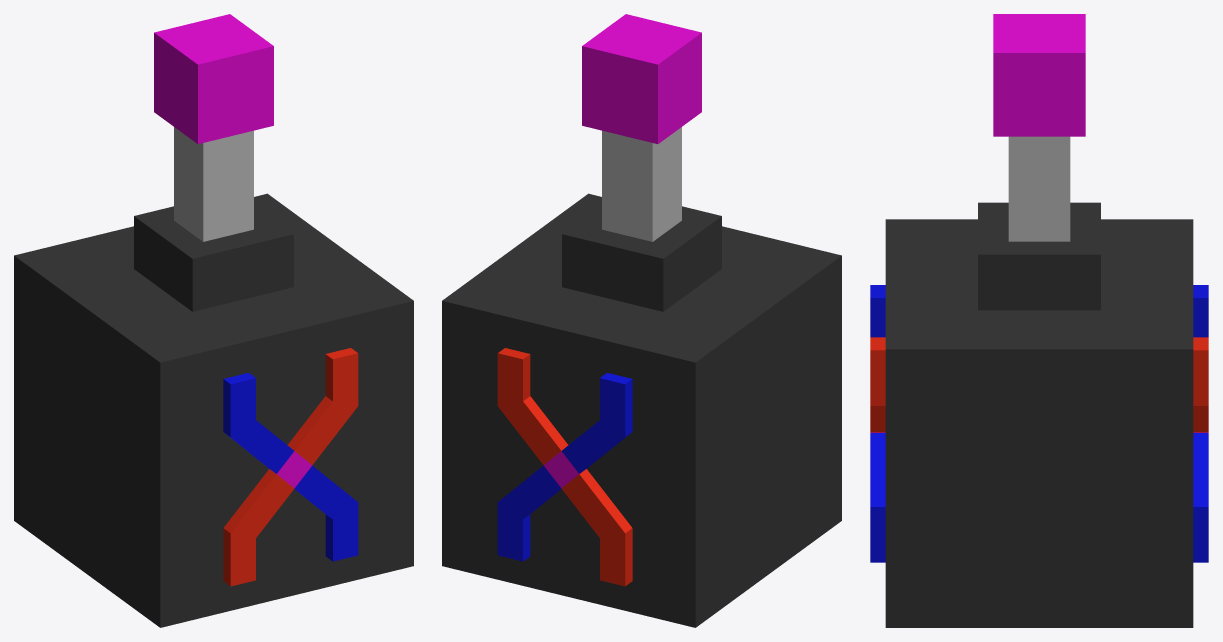
File: FusionBomb.fbx
The picture shows the model from 3 angles, left to right: view 1: azimuth 30°, elevation 25°; view 2: azimuth 150°, elevation 25°; view 3: azimuth 270°, elevation 25°; orthographic projection. The views are drawn at different scales.
Parts seen in each view (by area): view 1: Cube.001, Cube.004, Cube.002, Cube.003, Cube.011, Cube.006, Cube.010, Cube.005, Cube.007; view 2: Cube.001, Cube.004, Cube.002, Cube.003, Cube.020, Cube.015, Cube.019, Cube.014, Cube.016; view 3: Cube.001, Cube.004, Cube.002, Cube.003, Cube.005, Cube.014, Cube.011, Cube.020, Cube.010, Cube.019.
Part boxes in pixels (left/top/right/bottom): Cube.001: left=14, top=193, right=413, bottom=627; Cube.004: left=154, top=14, right=273, bottom=143; Cube.002: left=134, top=205, right=293, bottom=311; Cube.003: left=174, top=127, right=253, bottom=241; Cube.011: left=287, top=348, right=358, bottom=464; Cube.006: left=223, top=469, right=294, bottom=586; Cube.010: left=223, top=373, right=293, bottom=473; Cube.005: left=294, top=465, right=358, bottom=561; Cube.007: left=277, top=451, right=312, bottom=488; Cube.001: left=442, top=193, right=841, bottom=627; Cube.004: left=582, top=14, right=701, bottom=143; Cube.002: left=562, top=205, right=721, bottom=311; Cube.003: left=602, top=127, right=681, bottom=241; Cube.020: left=497, top=348, right=568, bottom=464; Cube.015: left=561, top=469, right=632, bottom=586; Cube.019: left=562, top=373, right=632, bottom=473; Cube.014: left=497, top=465, right=561, bottom=561; Cube.016: left=543, top=451, right=578, bottom=488; Cube.001: left=885, top=219, right=1193, bottom=627; Cube.004: left=993, top=14, right=1085, bottom=136; Cube.002: left=978, top=202, right=1100, bottom=310; Cube.003: left=1008, top=136, right=1070, bottom=241; Cube.005: left=870, top=433, right=885, bottom=562; Cube.014: left=1193, top=433, right=1208, bottom=562; Cube.011: left=870, top=337, right=885, bottom=432; Cube.020: left=1193, top=337, right=1208, bottom=432; Cube.010: left=870, top=285, right=885, bottom=337; Cube.019: left=1193, top=285, right=1208, bottom=337.
Bounding box in the file's own units: 100 × 190 × 110.
